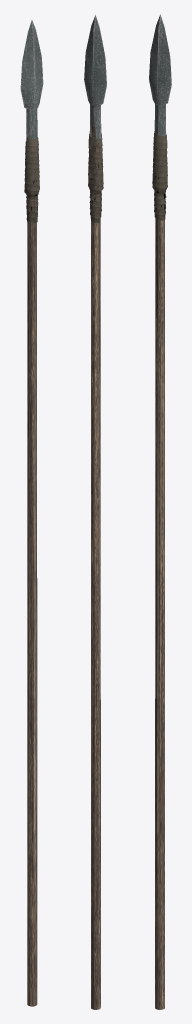
File: Speer_LOD2.dae
3 renders of one model, left to right at view 1: azimuth 30°, elevation 25°; view 2: azimuth 150°, elevation 25°; view 3: azimuth 330°, elevation 25°, orthographic.
Parts seen in each view (by area): view 1: Speer_LOD2; view 2: Speer_LOD2; view 3: Speer_LOD2.
Boxes of the visible parts, x1,y1,x2,y2 form: Speer_LOD2: (20, 20, 43, 1006); Speer_LOD2: (84, 15, 106, 1009); Speer_LOD2: (149, 14, 171, 1009).
Bounding box in the file's own units: 0.0348 × 0.0194 × 1.44.
1 material, 1 textured.
